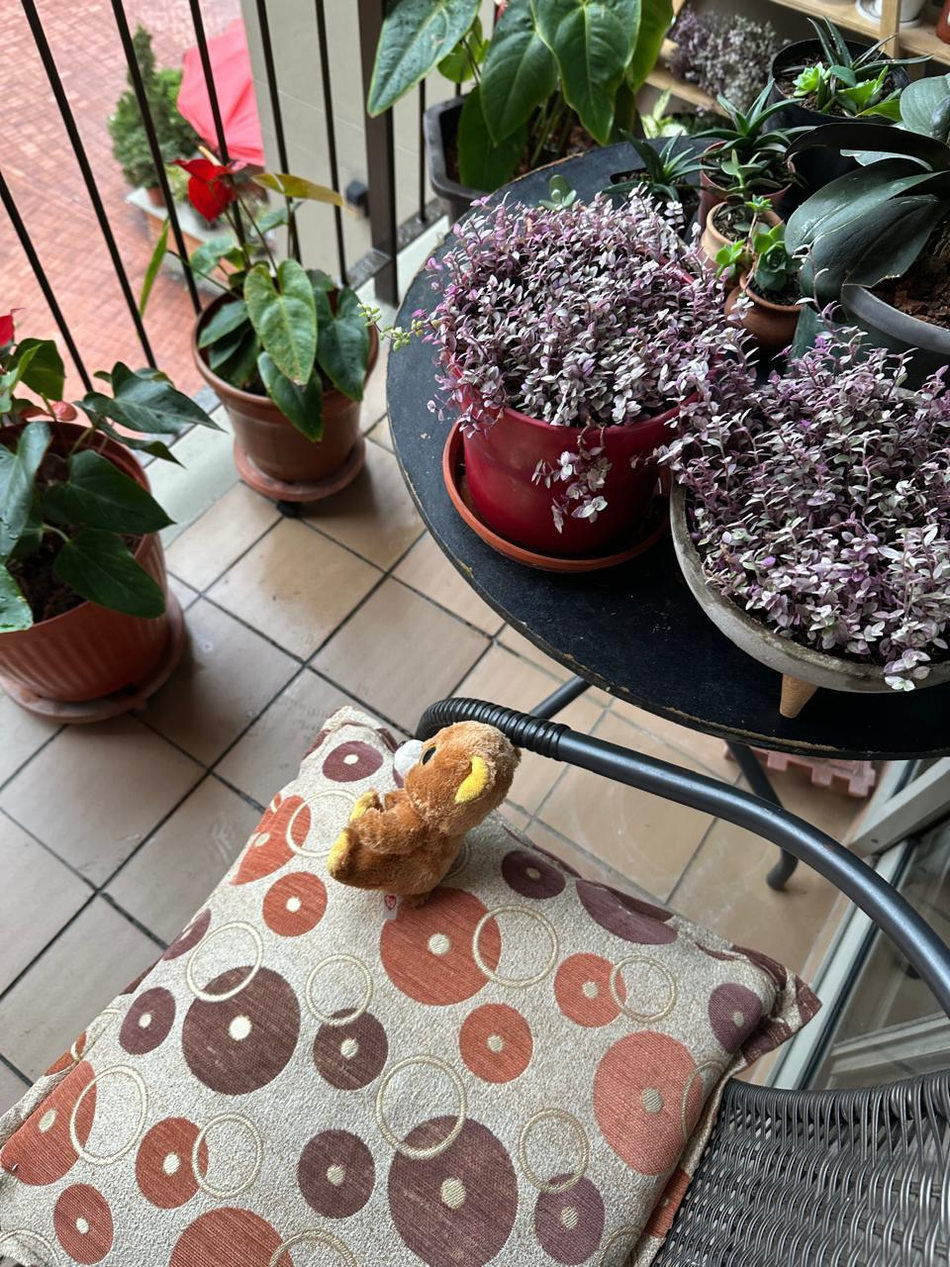peluche_sebastian: (327, 713, 517, 903)
